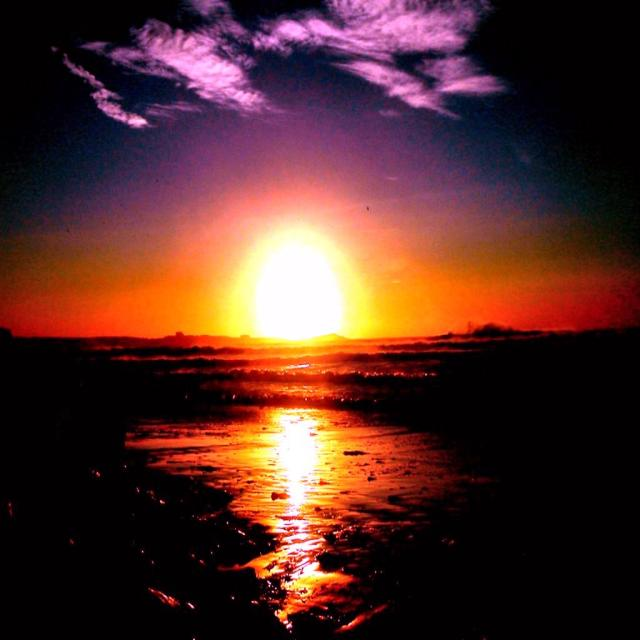no_fire: (86, 121, 480, 539)
